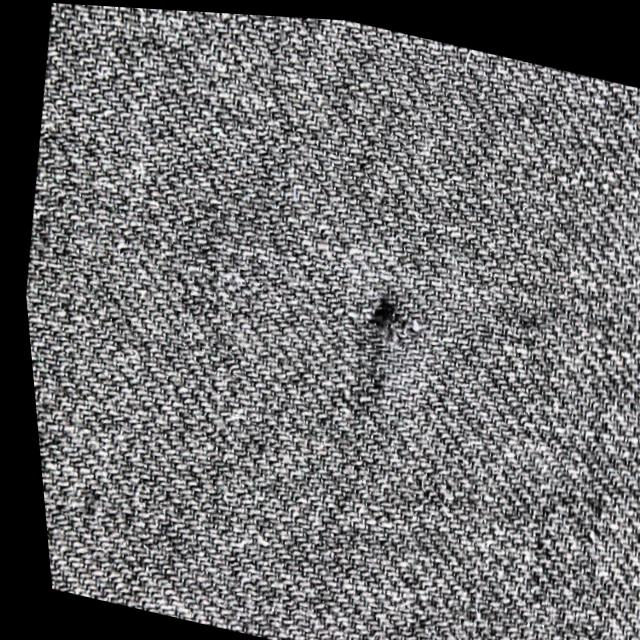Hole: (339, 253, 428, 371)
